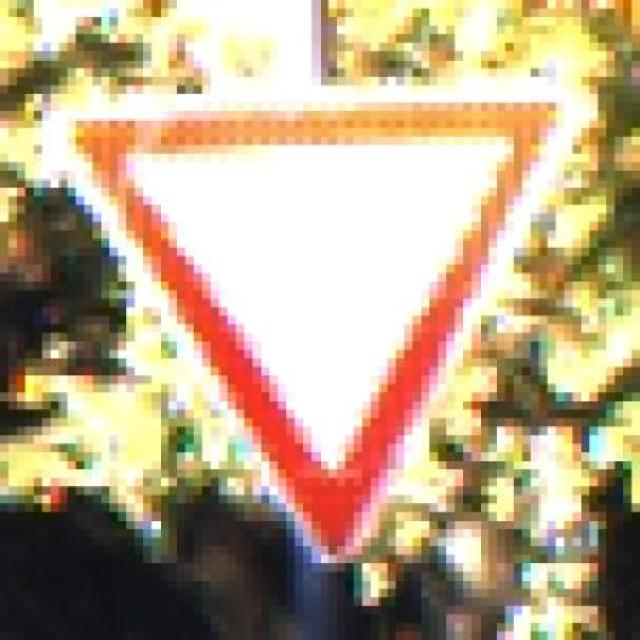Give Way: (33, 68, 632, 572)
